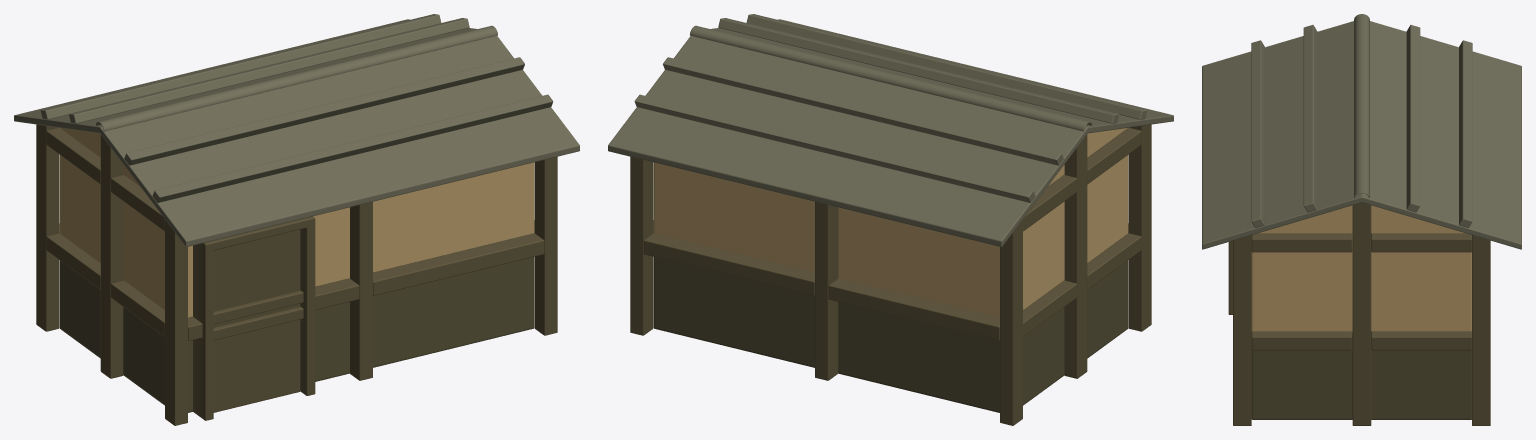
Rendered from Building03_v02.glb.
3 views of the same model, side by side, from view 1: azimuth 30°, elevation 25°; view 2: azimuth 150°, elevation 25°; view 3: azimuth 270°, elevation 25° (orthographic). The views are drawn at different scales.
Visible parts, largest first — view 1: SM_Building03; view 2: SM_Building03; view 3: SM_Building03.
Boxes of the visible parts, x1,y1,x2,y2 form: SM_Building03: (14,14,579,425); SM_Building03: (608,14,1173,425); SM_Building03: (1202,14,1521,425).
Bounding box in the file's own units: 4.97 × 3.07 × 3.76.
